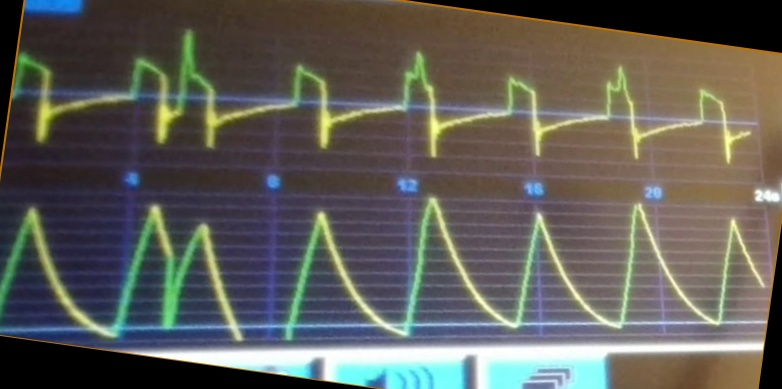Double_Triggering Flow: (22, 29, 732, 170)
Double_Triggering Volume: (6, 200, 742, 342)
